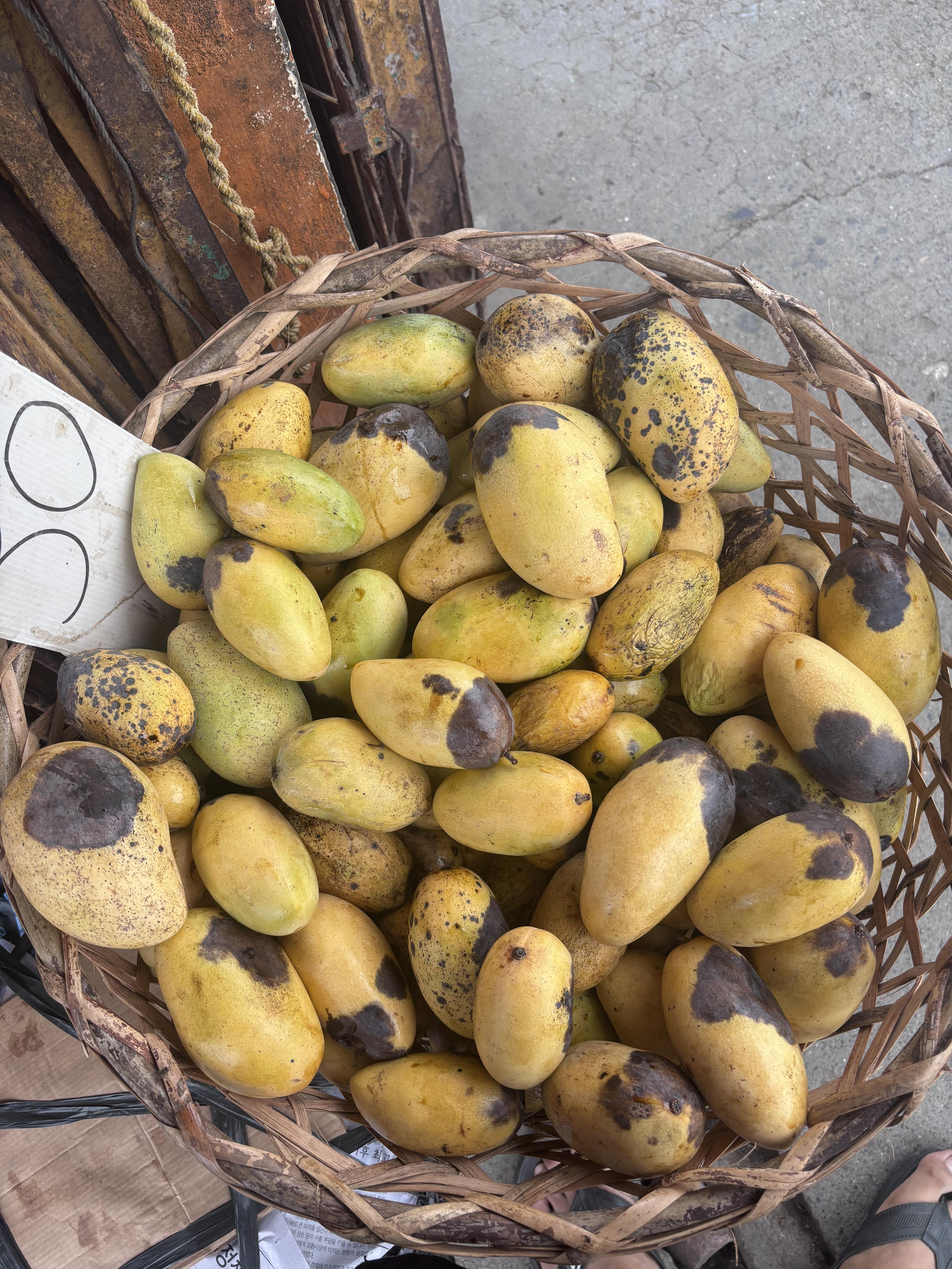mango: (764, 633, 911, 803), (351, 658, 517, 768)
